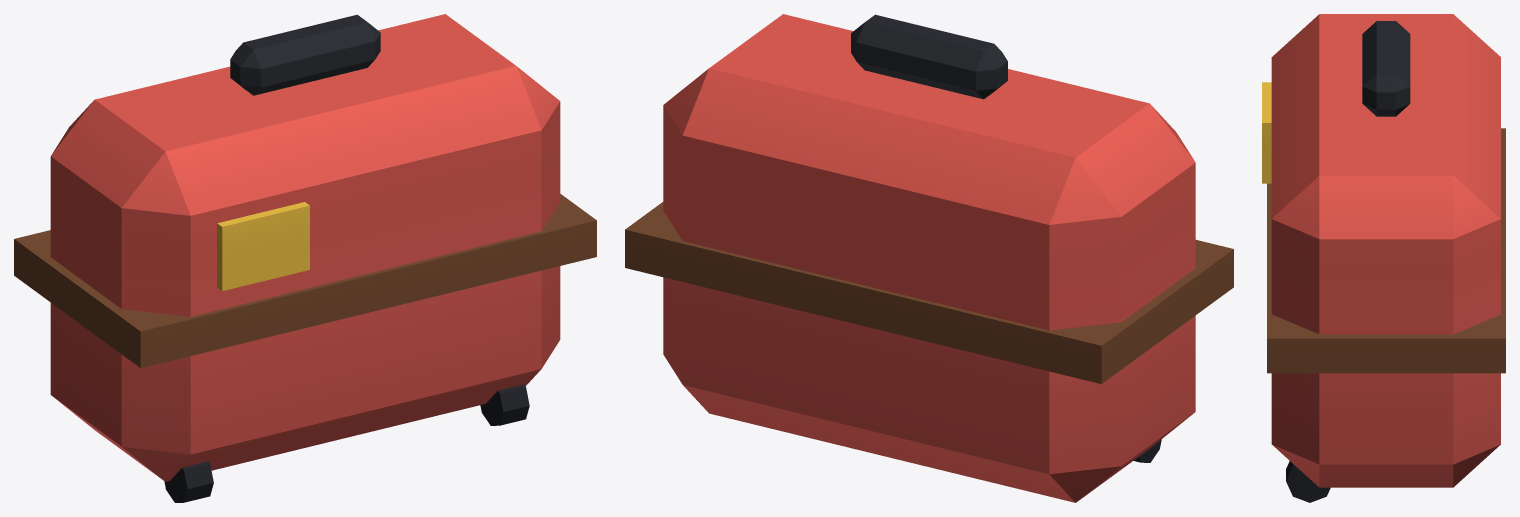
The model's file is Mala.fbx.
The picture shows the model from 3 angles, left to right: view 1: azimuth 30°, elevation 25°; view 2: azimuth 150°, elevation 25°; view 3: azimuth 270°, elevation 25°; orthographic projection. The views are drawn at different scales.
Visible parts, largest first — view 1: Mala_Malha; view 2: Mala_Malha; view 3: Mala_Malha.
Boxes of the visible parts, <box> form: Mala_Malha: <box>14,14,596,502</box>; Mala_Malha: <box>625,14,1233,502</box>; Mala_Malha: <box>1262,14,1505,502</box>.
Bounding box in the file's own units: 0.52 × 0.435 × 0.255.
